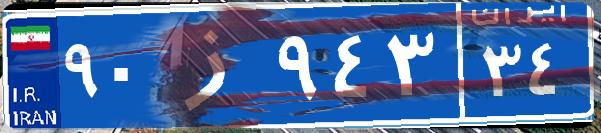0: (110, 28, 158, 105)
3: (385, 28, 445, 110), (475, 38, 525, 113)
4: (330, 28, 385, 110), (525, 38, 570, 115)
9: (273, 28, 330, 110), (57, 26, 110, 107)
ز: (158, 15, 273, 115)
